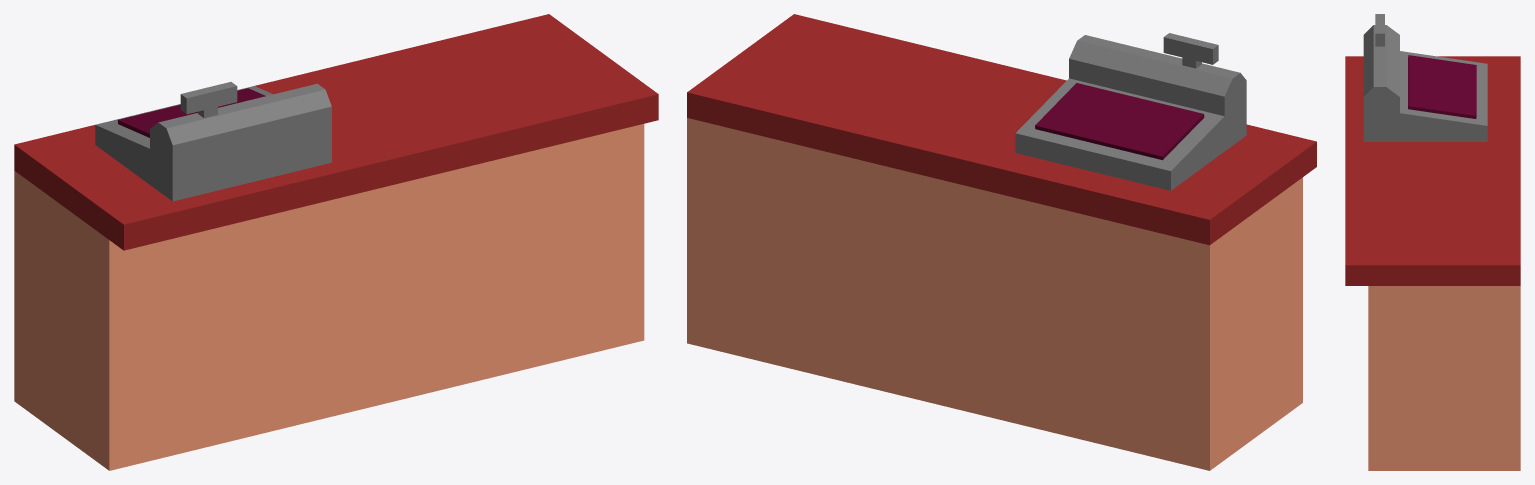
File: Cash.gltf
The picture shows the model from 3 angles, left to right: view 1: azimuth 30°, elevation 25°; view 2: azimuth 150°, elevation 25°; view 3: azimuth 270°, elevation 25°; orthographic projection. The views are drawn at different scales.
Parts seen in each view (by area): view 1: root; view 2: root; view 3: root.
Boxes of the visible parts, x1,y1,x2,y2 form: root: (14,14,658,470); root: (687,14,1316,470); root: (1345,14,1520,470).
Size of the model in its own units: 2.79 by 1.74 by 0.99.
